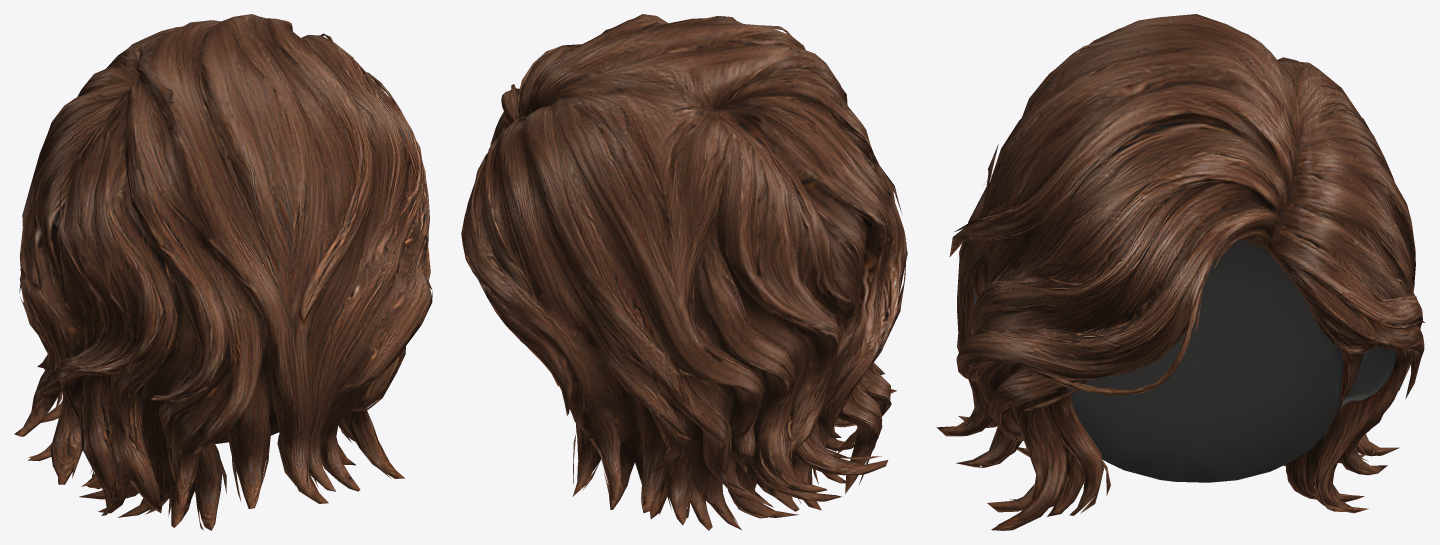
Rendered from wave.glb.
The picture shows the model from 3 angles, left to right: view 1: azimuth 30°, elevation 25°; view 2: azimuth 150°, elevation 25°; view 3: azimuth 270°, elevation 25°; orthographic projection. The views are drawn at different scales.
Parts seen in each view (by area): view 1: tripo_node_49796ec9-9ace-4424-a857-d3ad80a6ab6a; view 2: tripo_node_49796ec9-9ace-4424-a857-d3ad80a6ab6a; view 3: tripo_node_49796ec9-9ace-4424-a857-d3ad80a6ab6a.
Boxes of the visible parts, left/top/right/bottom form: tripo_node_49796ec9-9ace-4424-a857-d3ad80a6ab6a: left=14, top=14, right=432, bottom=530; tripo_node_49796ec9-9ace-4424-a857-d3ad80a6ab6a: left=461, top=14, right=907, bottom=530; tripo_node_49796ec9-9ace-4424-a857-d3ad80a6ab6a: left=936, top=14, right=1424, bottom=530.
Bounding box in the file's own units: 0.877 × 0.9784 × 0.8946.
Materials: 1 (1 with a texture image).
